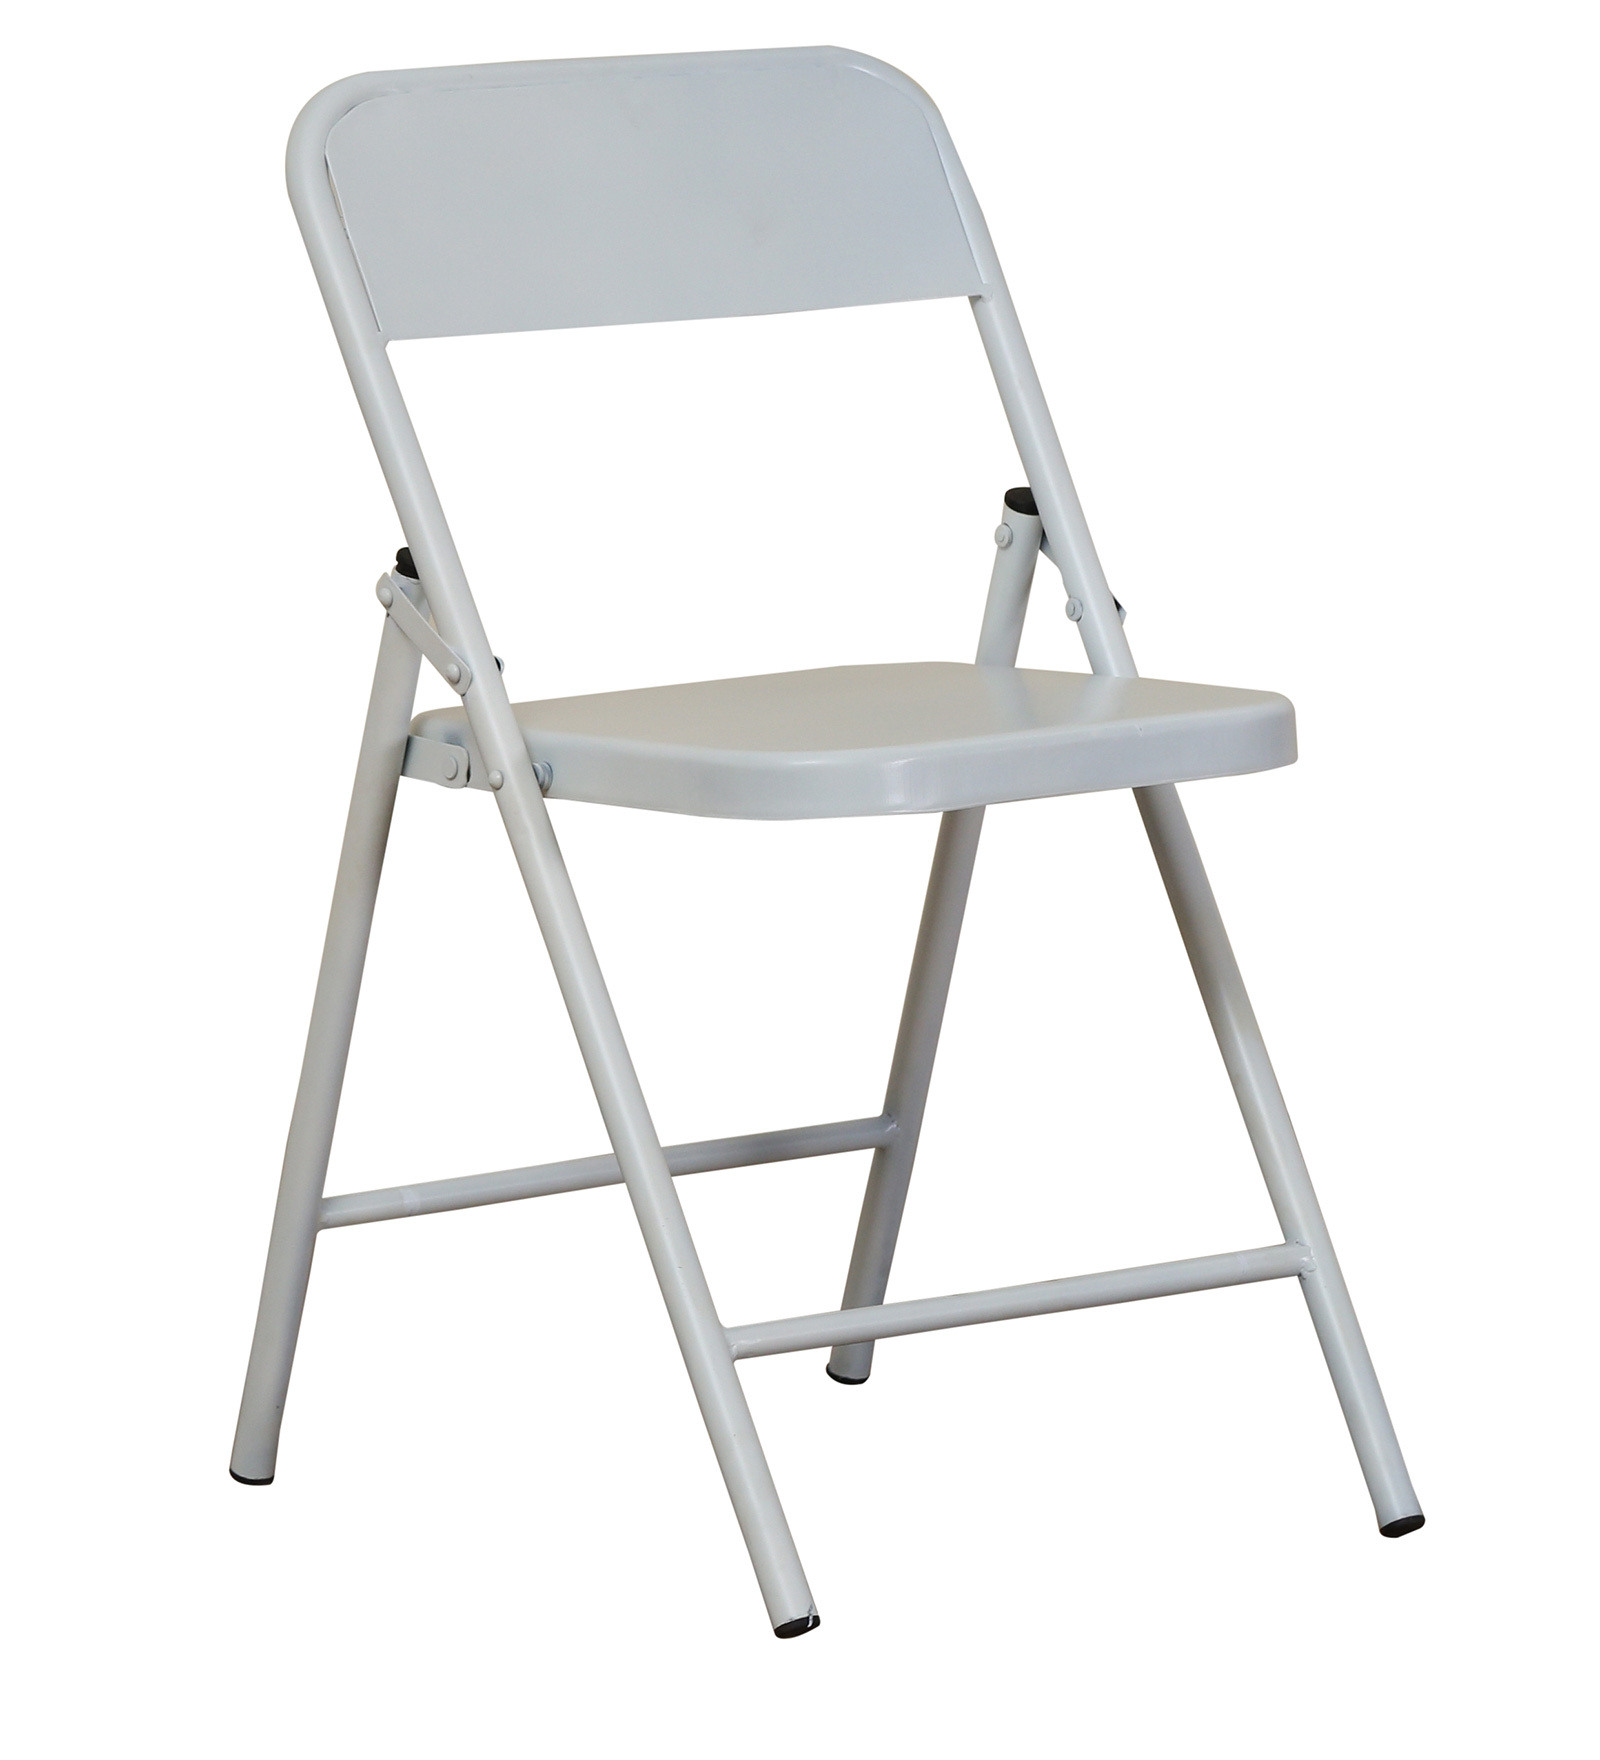Kell Folding Chair (Set of 2) in White Color by Bohemiana: (155, 23, 1470, 1660)
